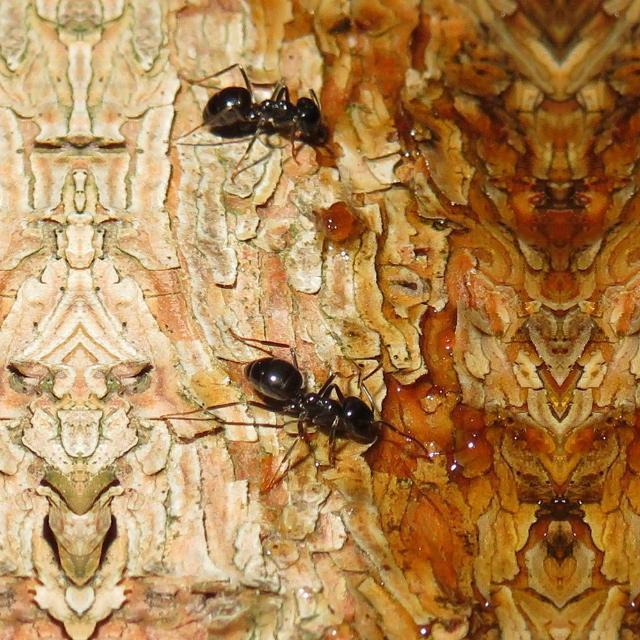Lasius: (223, 318, 404, 456)
